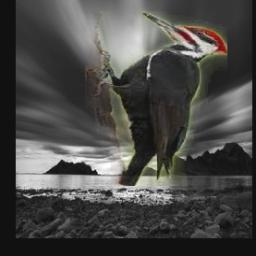Woodpecker: (85, 12, 227, 187)
